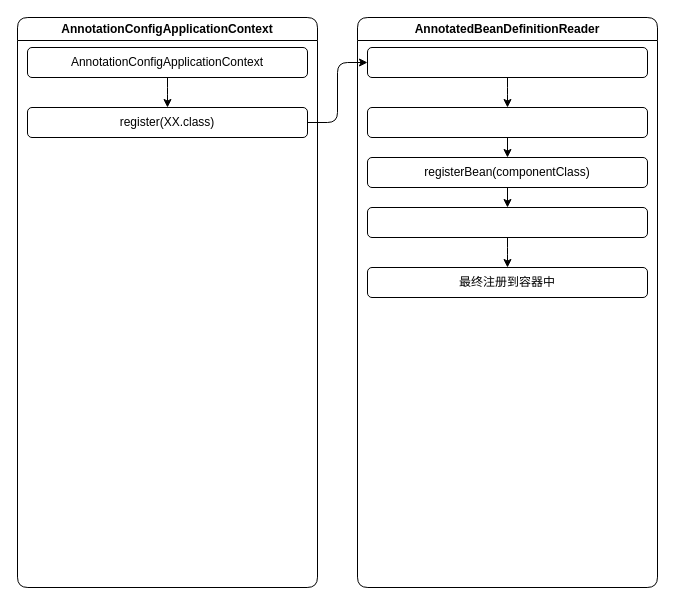
Image size: 675x605. Some labels were removed from this diagram. Each missing label, with the centre of its shape:
"doRegisterBean(componentClass,....null)" belongs at point (507, 222).
"register(componentClasses)" belongs at point (507, 62).
"循环：componentClasses" belongs at point (507, 122).
